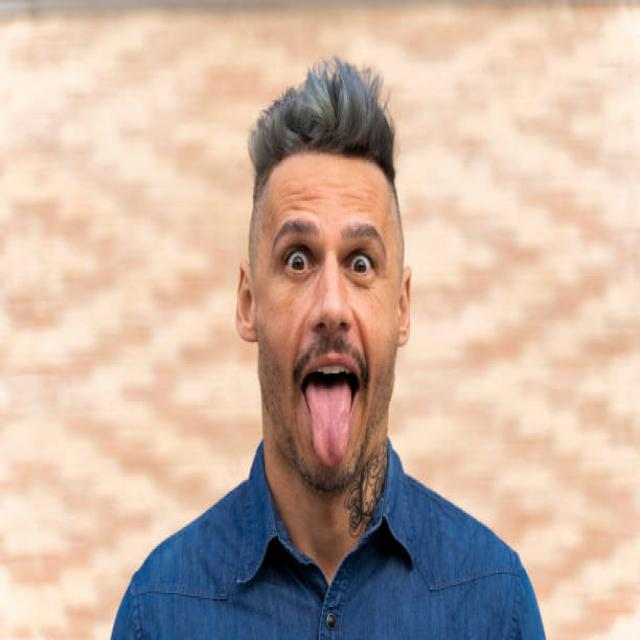tongue: (299, 375, 360, 472)
